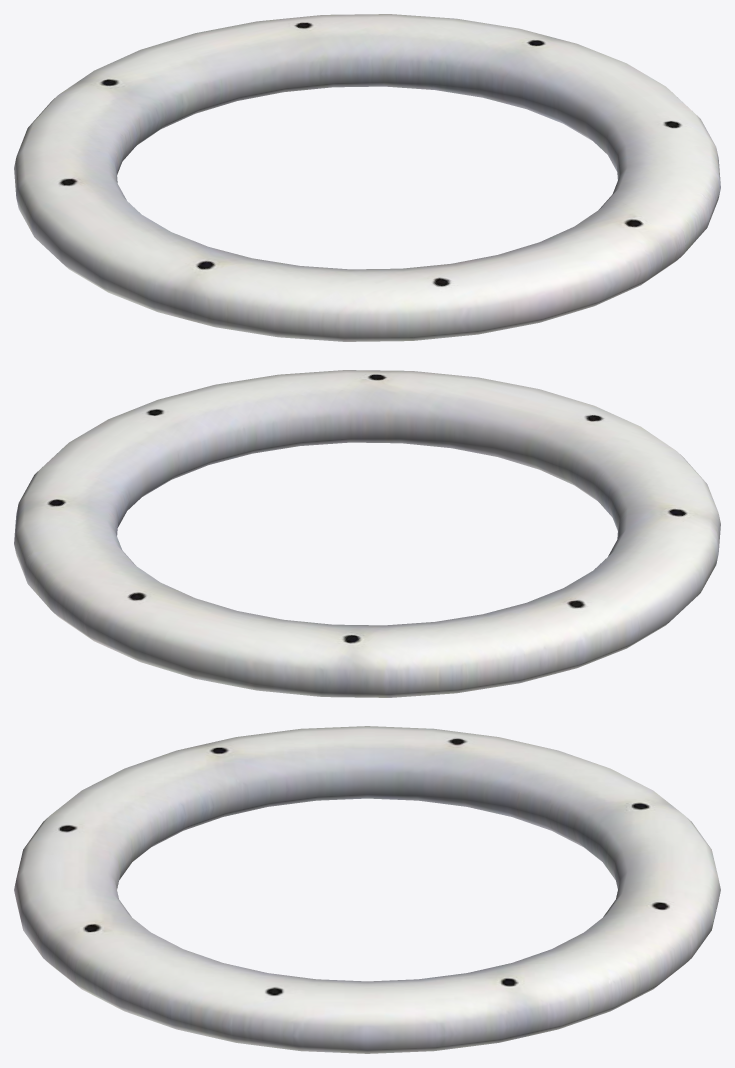
The model's file is Sonderringleuchte_1400_mm.glb.
3 renders of one model, top to bottom at view 1: azimuth 30°, elevation 25°; view 2: azimuth 150°, elevation 25°; view 3: azimuth 270°, elevation 25°, orthographic.
Visible parts, largest first — view 1: Ringleuchte; view 2: Ringleuchte; view 3: Ringleuchte.
Boxes of the visible parts, bbox=[...] form: Ringleuchte: bbox=[14, 14, 720, 341]; Ringleuchte: bbox=[14, 370, 720, 697]; Ringleuchte: bbox=[14, 726, 720, 1053].
Size of the model in its own units: 1.4 by 0.1099 by 1.4.
Materials: 1 (1 with a texture image).
